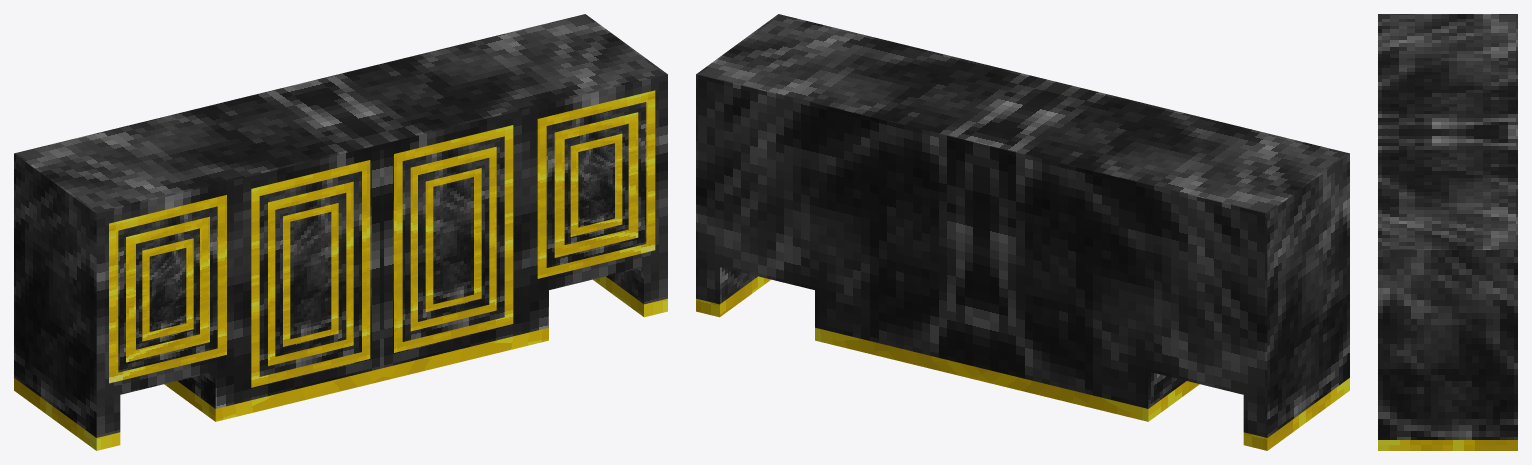
Rendered from Cabinet 1.glb.
3 renders of one model, left to right at view 1: azimuth 30°, elevation 25°; view 2: azimuth 150°, elevation 25°; view 3: azimuth 270°, elevation 25°, orthographic. The views are drawn at different scales.
Parts seen in each view (by area): view 1: Cube.001; view 2: Cube.001; view 3: Cube.001.
Part boxes in pixels (x1=…): Cube.001: x1=14, y1=14, x2=667, y2=450; Cube.001: x1=696, y1=14, x2=1349, y2=450; Cube.001: x1=1378, y1=14, x2=1517, y2=450.
Size of the model in its own units: 2.09 by 0.8293 by 0.5227.
1 material, 1 textured.
